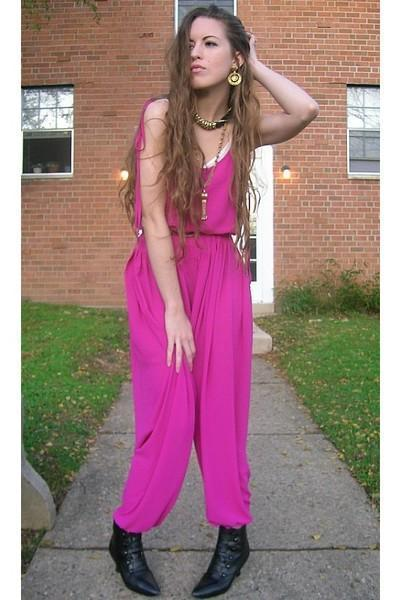pants: (114, 236, 254, 531)
shirt: (185, 156, 237, 241)
shoe: (108, 521, 251, 599)
